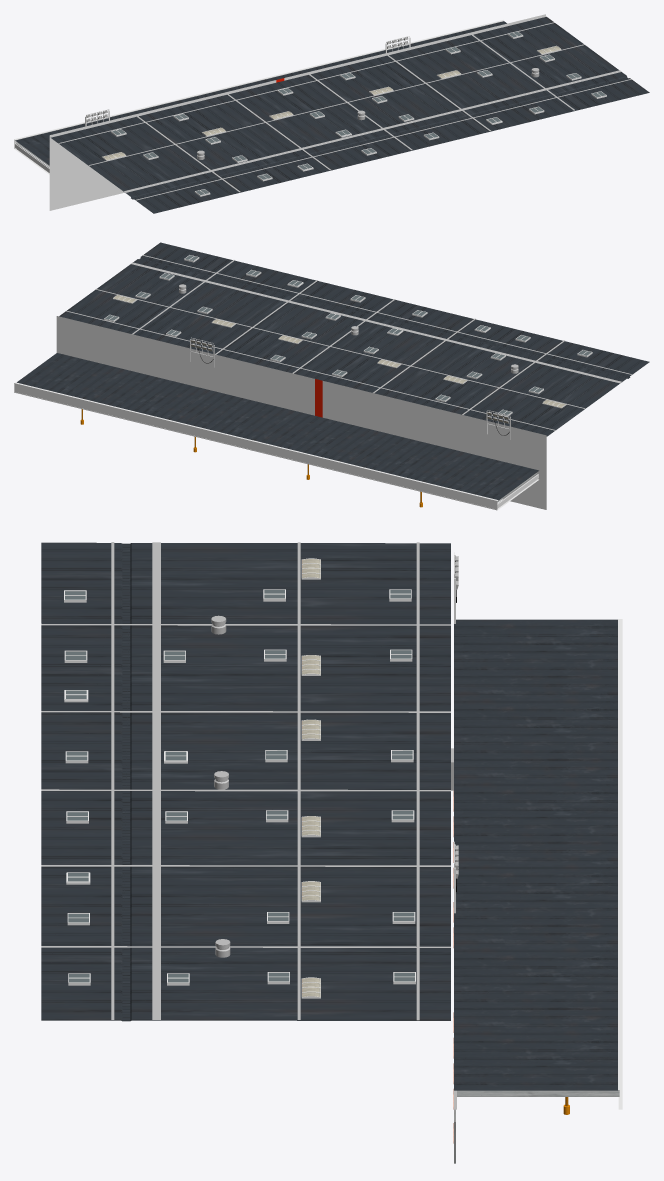
Rendered from SM_TNTBuilding_Part04.fbx.
3 renders of one model, top to bottom at view 1: azimuth 30°, elevation 25°; view 2: azimuth 150°, elevation 25°; view 3: azimuth 270°, elevation 25°, orthographic. The views are drawn at different scales.
Parts seen in each view (by area): view 1: SM_TNTBuilding_Part04_LOD0; view 2: SM_TNTBuilding_Part04_LOD0; view 3: SM_TNTBuilding_Part04_LOD0.
Part boxes in pixels (x1,y1,x2,y2): SM_TNTBuilding_Part04_LOD0: (14,14,649,213); SM_TNTBuilding_Part04_LOD0: (14,242,649,510); SM_TNTBuilding_Part04_LOD0: (41,542,622,1163).
Size of what is drawn, in the model's own units: 11898 by 1989 by 6094.
